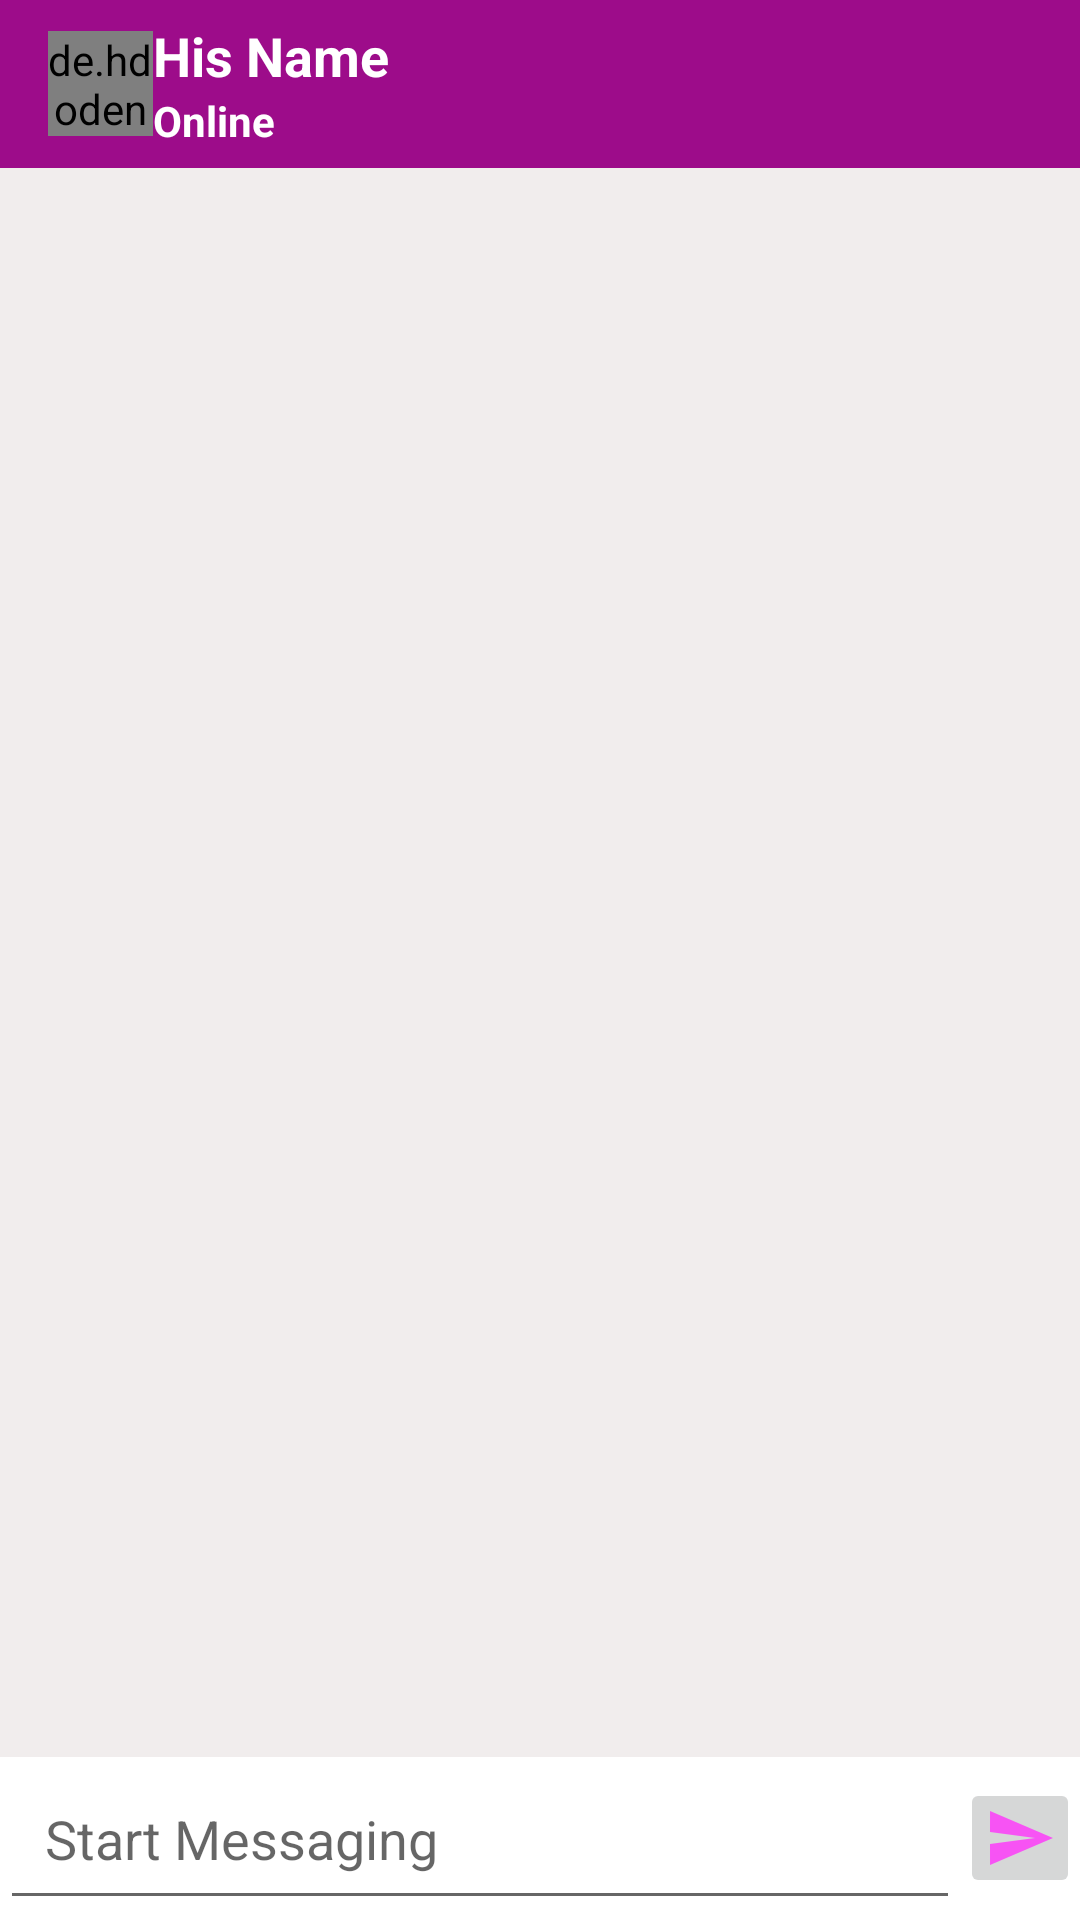

Where to tap for icons on this 1080*1920 app screen, as [x,y]:
send: [1020,1838]
